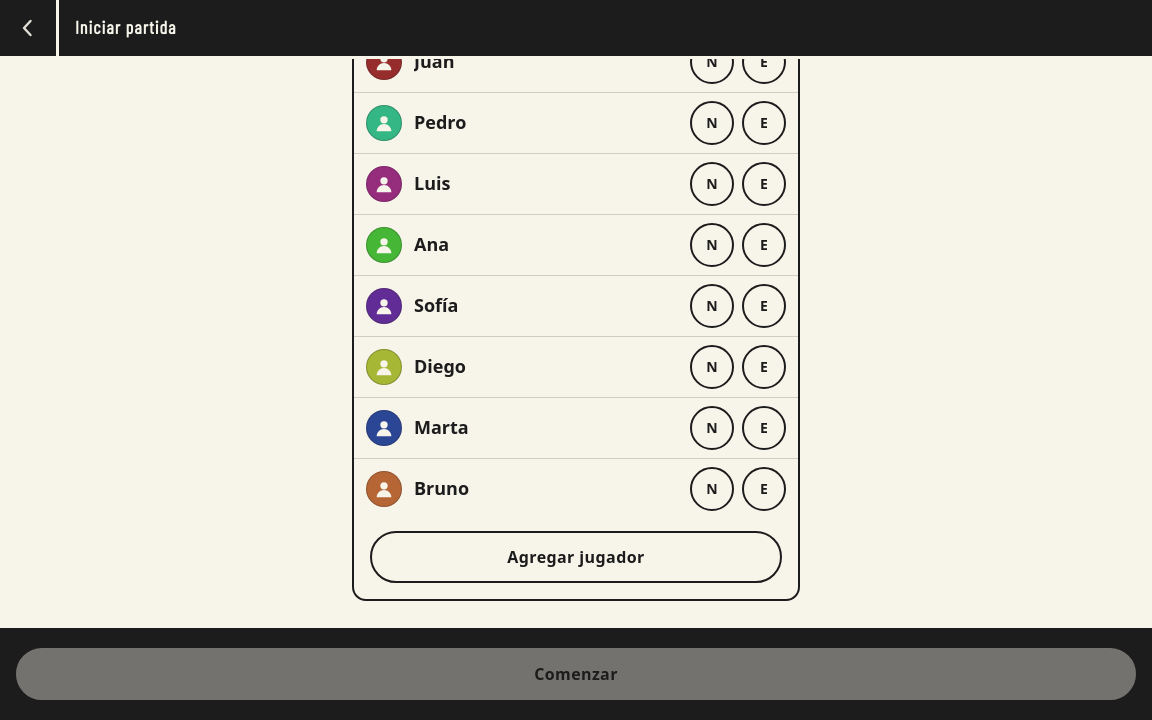
Test: StartGroupGameScreen › jugadores invitados › un equipo necesita al menos un integrante del grupo
(page scrolled)
Click the button "Agregar jugador" at (576, 557), box [370,531,782,583]
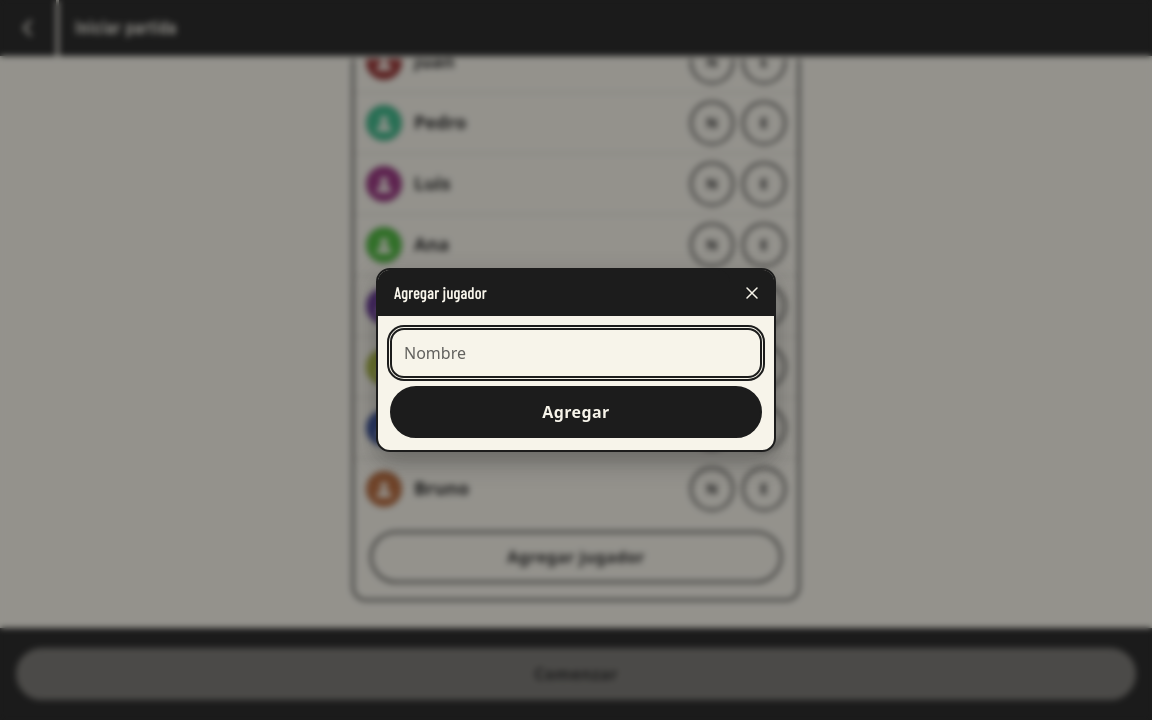
Type "Beto" into the field named "Nombre del jugador" at (576, 353), box [390,328,762,378]
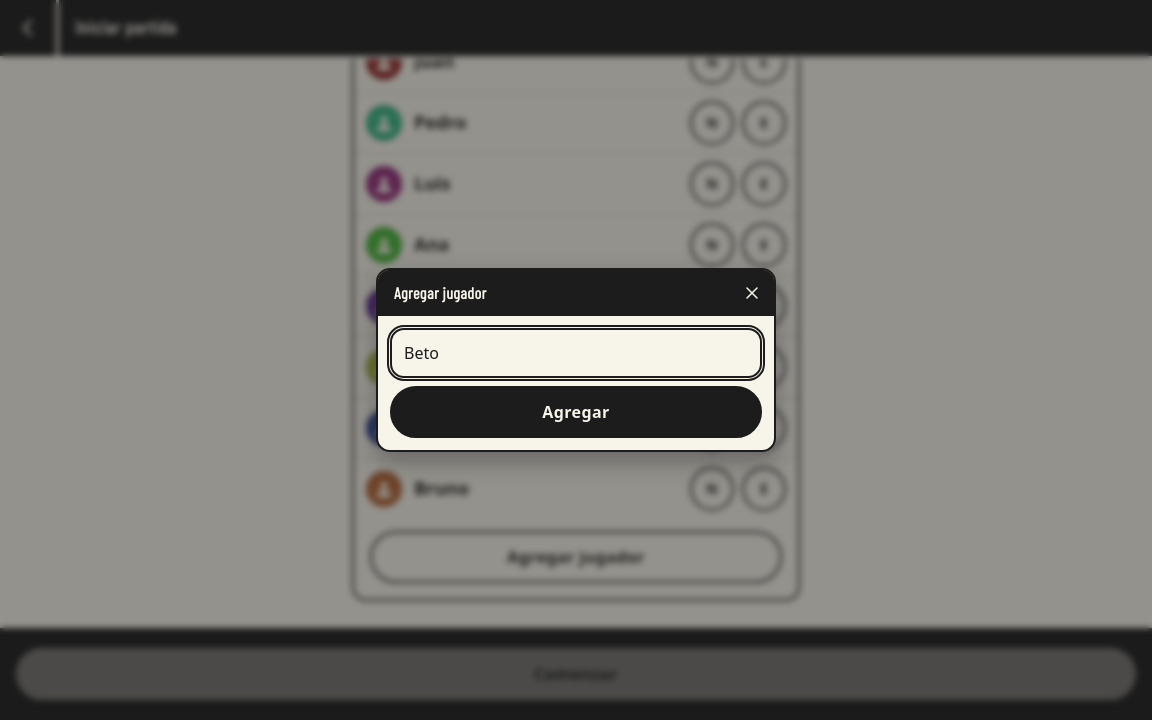
Click the button "Agregar" at (576, 412), box [390,386,762,438]
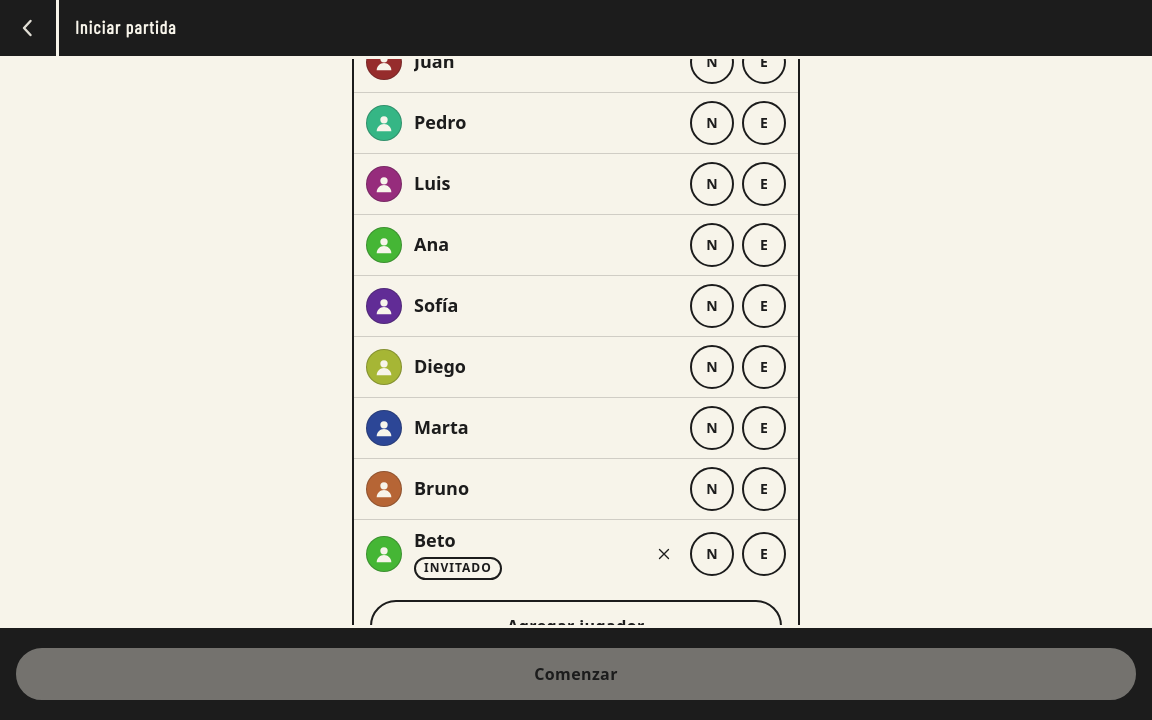
Click the button named "Agregar a Nosotros" at (712, 554), box [690,532,734,576]
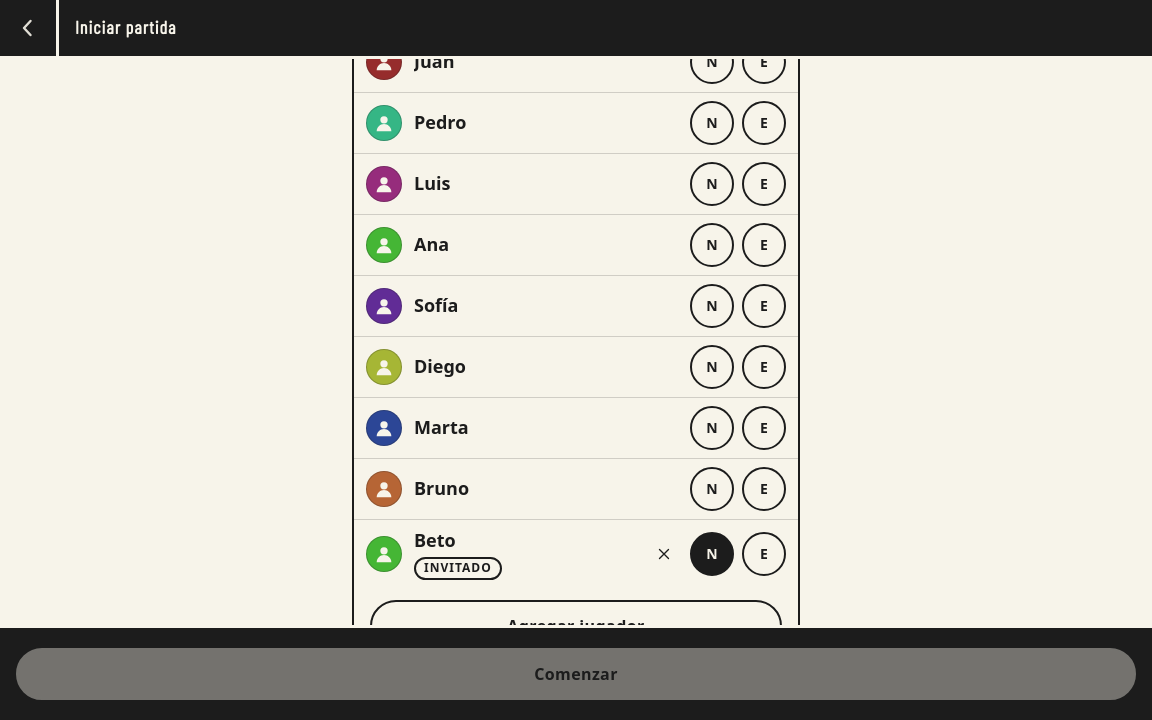
Click the button named "Agregar a Ellos" at (764, 123), box [742,101,786,145]
(page scrolled)
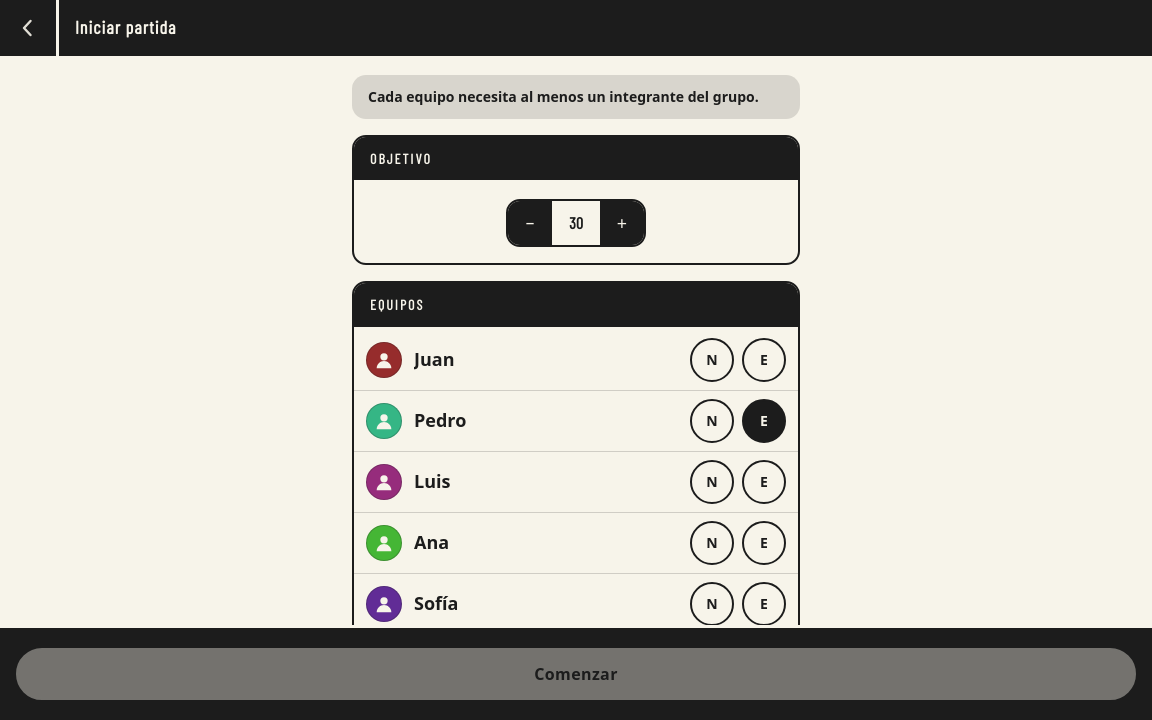
Expected: the button "Comenzar" is disabled, [16,648,1136,700]
Now the message reads "Cada equipo necesita al menos un integrante del grupo.", box [368,87,759,106]
